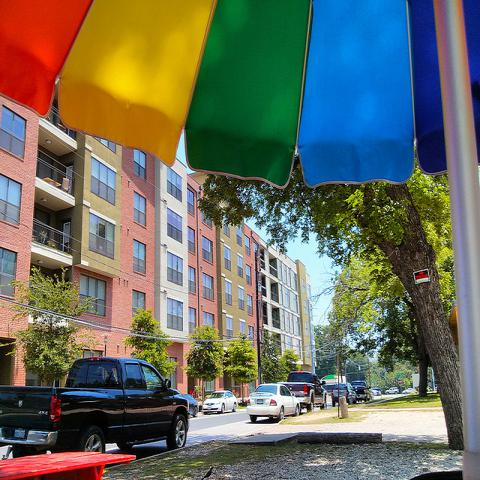car: (246, 384, 300, 422), (202, 390, 237, 415), (332, 383, 359, 406), (185, 393, 199, 417), (385, 387, 399, 395), (402, 387, 414, 394), (371, 388, 383, 395)
truck: (0, 353, 189, 457), (277, 370, 328, 413), (351, 381, 372, 401)
